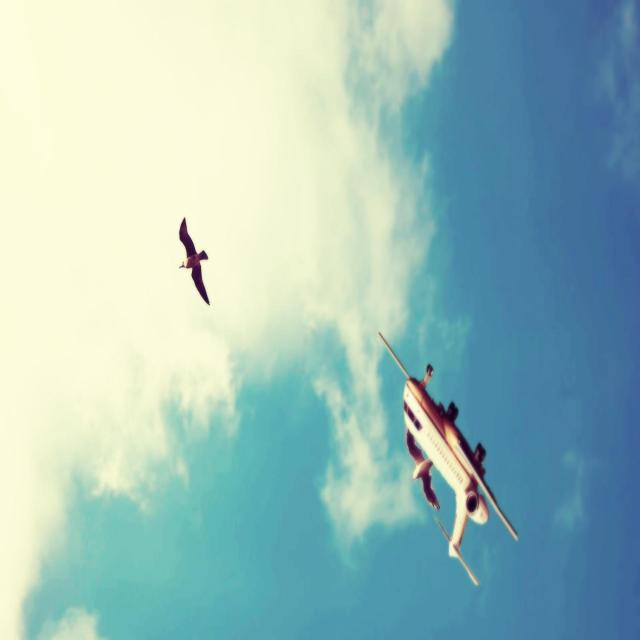airplane: (377, 329, 518, 586)
